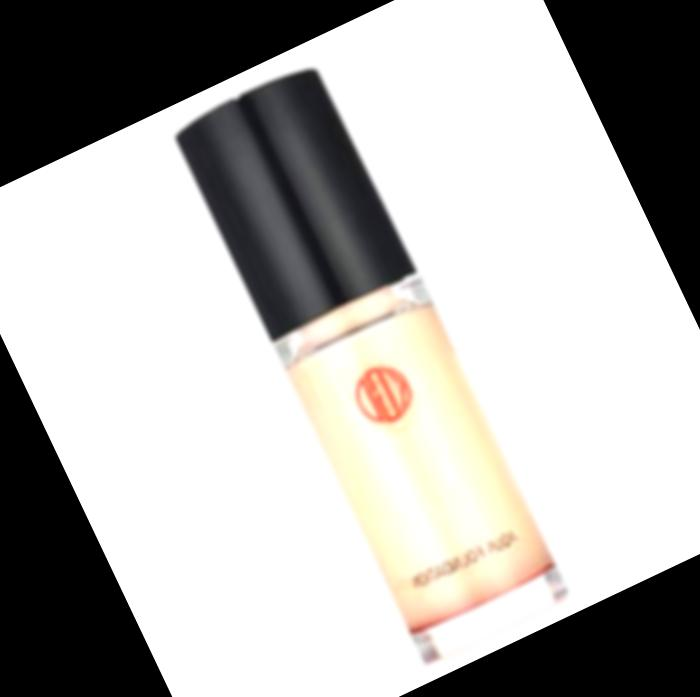cosmetic: (165, 58, 576, 672)
